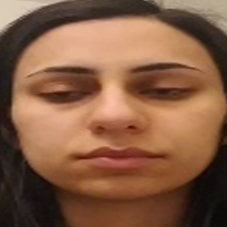drowsy: (22, 56, 210, 177)
